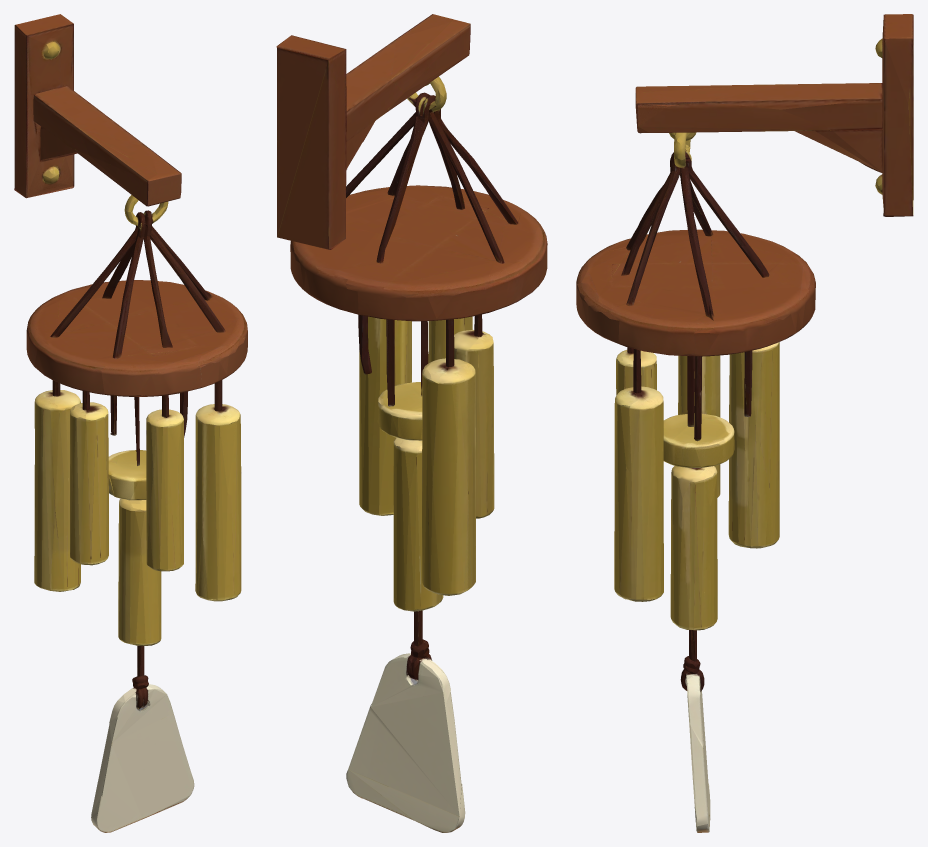
Rendered from wind-chime.glb.
3 renders of one model, left to right at view 1: azimuth 30°, elevation 25°; view 2: azimuth 150°, elevation 25°; view 3: azimuth 270°, elevation 25°, orthographic. The views are drawn at different scales.
Size of the model in its own units: 0.5195 by 1.9 by 0.7296.
Materials: 1 (1 with a texture image).
